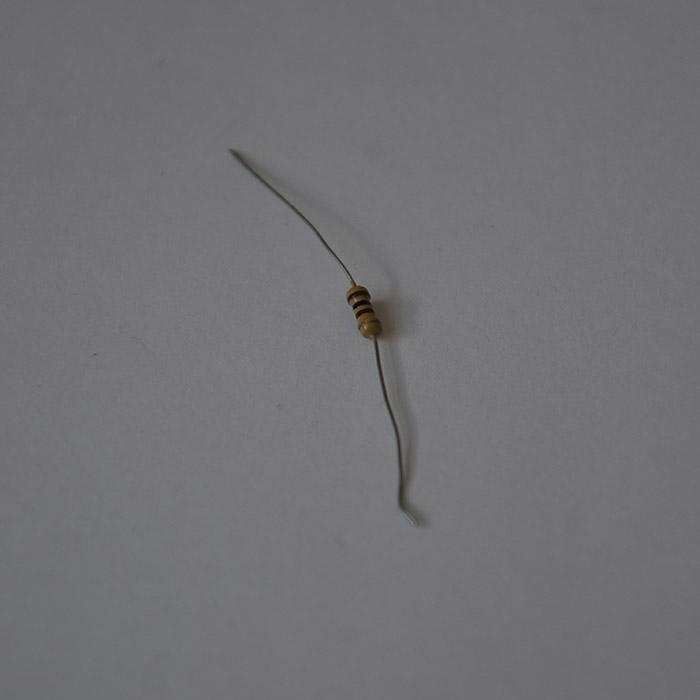resistor: (344, 285, 380, 339)
